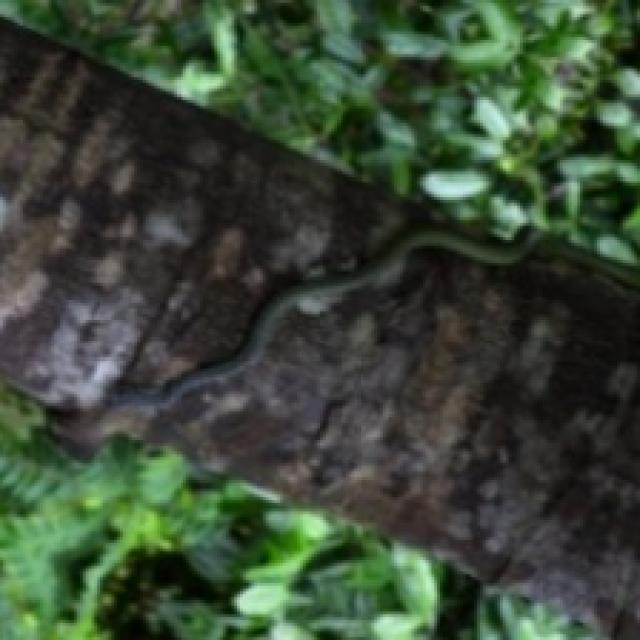paradise tree snake: (0, 23, 637, 620)
